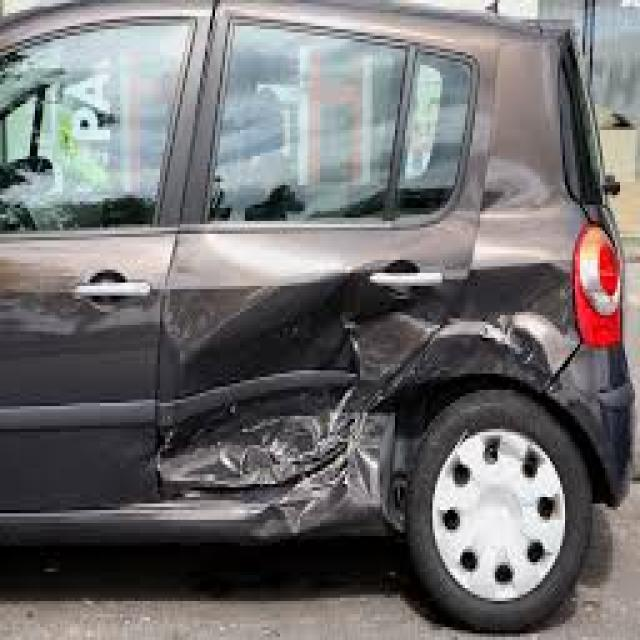moderate: (125, 219, 618, 600)
